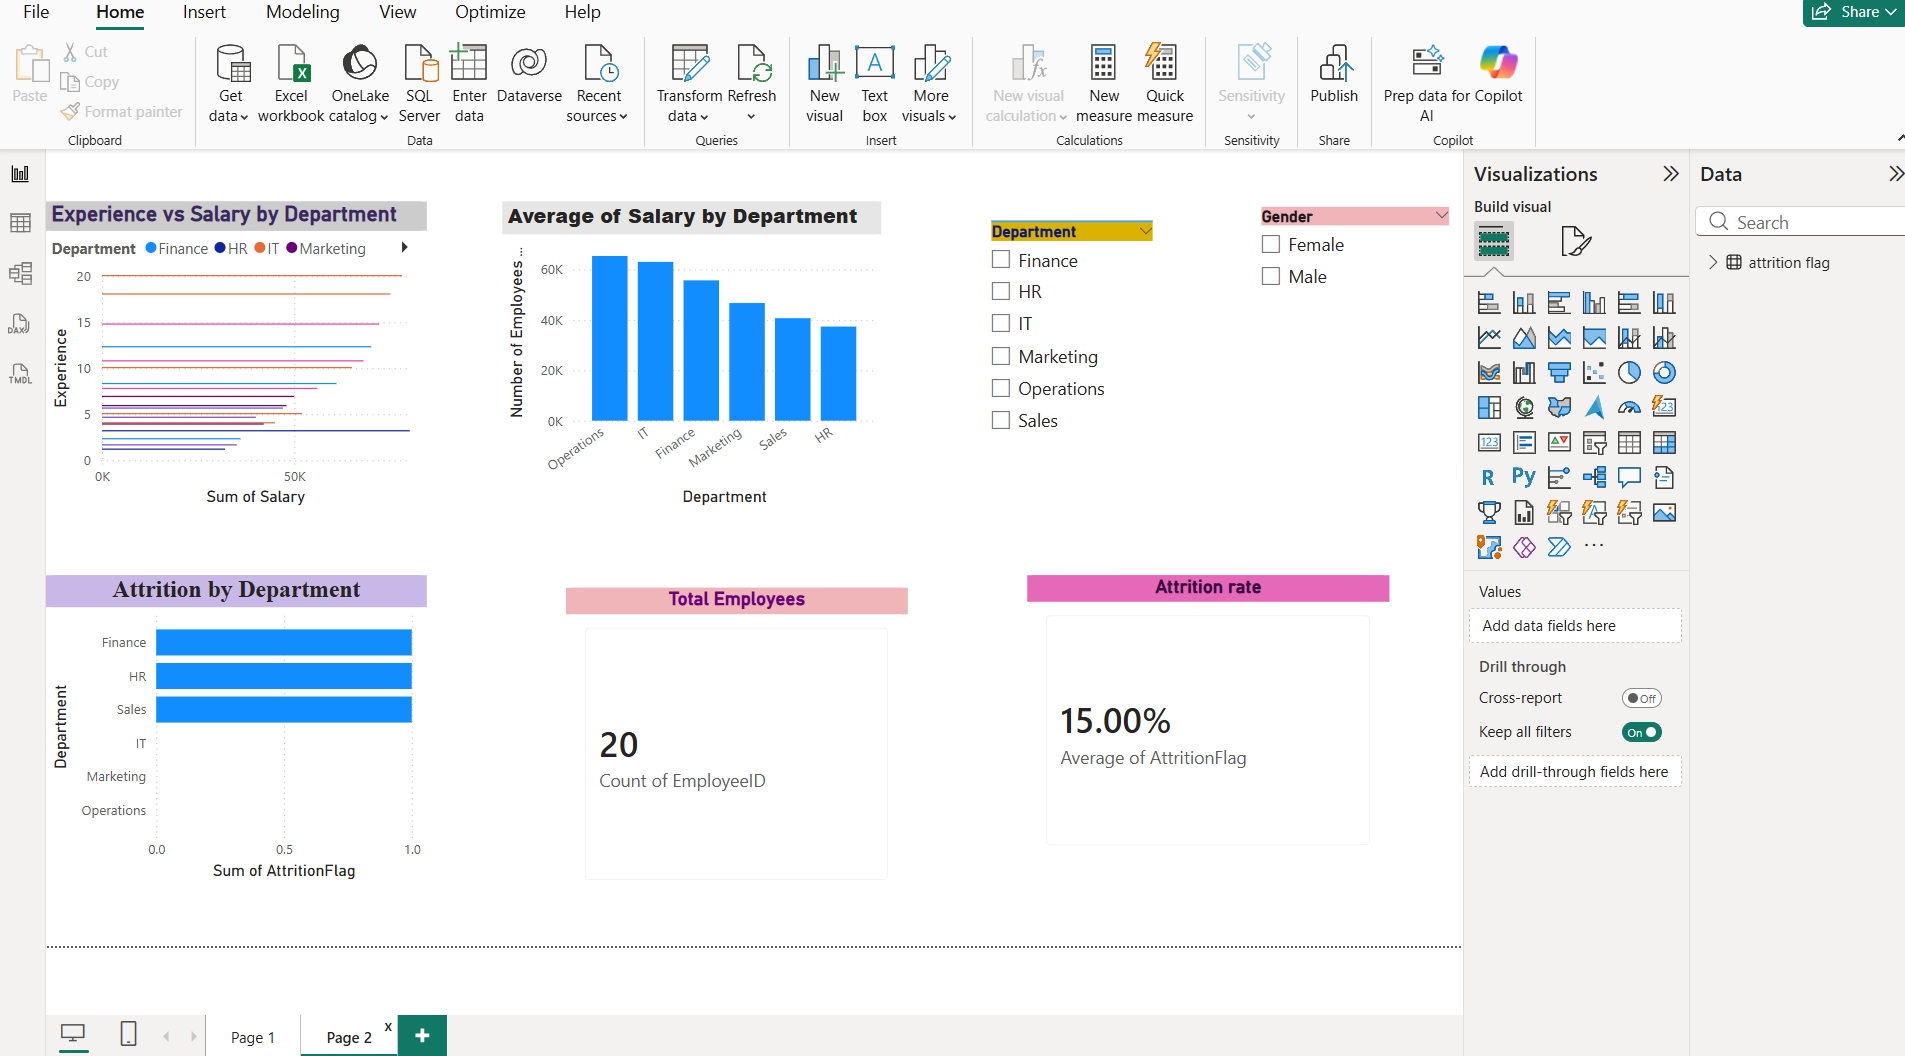

What the dashboard file says about the page in this screenshot:
{"tool":"powerbi","page":{"name":"Page 2","canvas":[1280,720],"ordinal":1},"visuals":[{"type":"barChart","title":"Attrition by Department","fields":{"Y":["Sum(attrition flag.AttritionFlag)"],"Category":["attrition flag.Department"]},"box":[0,385,343.8,280],"z":0},{"type":"clusteredColumnChart","fields":{"Category":["Sheet1.Department"],"Y":["Avg(Sheet1.Salary)"]},"box":[412.5,47.5,342.5,280],"z":1000},{"type":"clusteredBarChart","title":"Experience vs Salary by Department","fields":{"Category":["Sheet1.Experience"],"Y":["Sum(Sheet1.Salary)"],"Series":["attrition flag.Department"]},"box":[0,47.5,343.8,280],"z":2000},{"type":"cardVisual","title":"Total  Employees","fields":{"Data":["Count(Sheet1.EmployeeID)"]},"box":[470,396.2,308.8,281.2],"z":3000},{"type":"cardVisual","title":"Attrition rate","fields":{"Data":["Avg(attrition flag.AttritionFlag)"]},"box":[886.2,385,327.5,261.2],"z":4000},{"type":"slicer","fields":{"Values":["attrition flag.Department"]},"box":[841.2,60,171.2,231.2],"z":5000},{"type":"slicer","fields":{"Values":["attrition flag.Gender"]},"box":[1085,47.5,195,231.2],"z":6000}]}

Visuals, with their boxes on the page's 1280x720 design canvas (x1, y1, x2, y2). These are canvas units, not pixel positions in the 1905x1056 screenshot, which may show the page scaled, cropped or inside an application window:
"Attrition by Department" barChart: (0,385,344,665)
clusteredColumnChart - Sheet1.Department x Avg(Sheet1.Salary): (412,48,755,328)
"Experience vs Salary by Department" clusteredBarChart: (0,48,344,328)
"Total  Employees" cardVisual: (470,396,779,677)
"Attrition rate" cardVisual: (886,385,1214,646)
slicer - attrition flag.Department: (841,60,1012,291)
slicer - attrition flag.Gender: (1085,48,1280,279)
